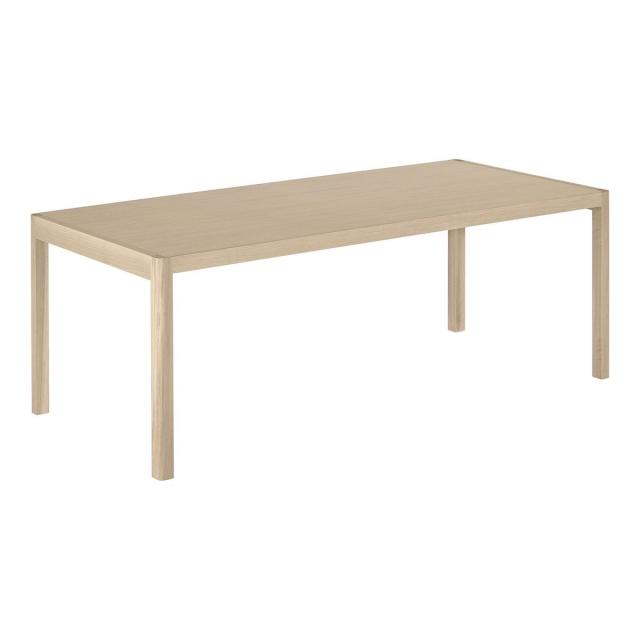table: (24, 146, 627, 545)
